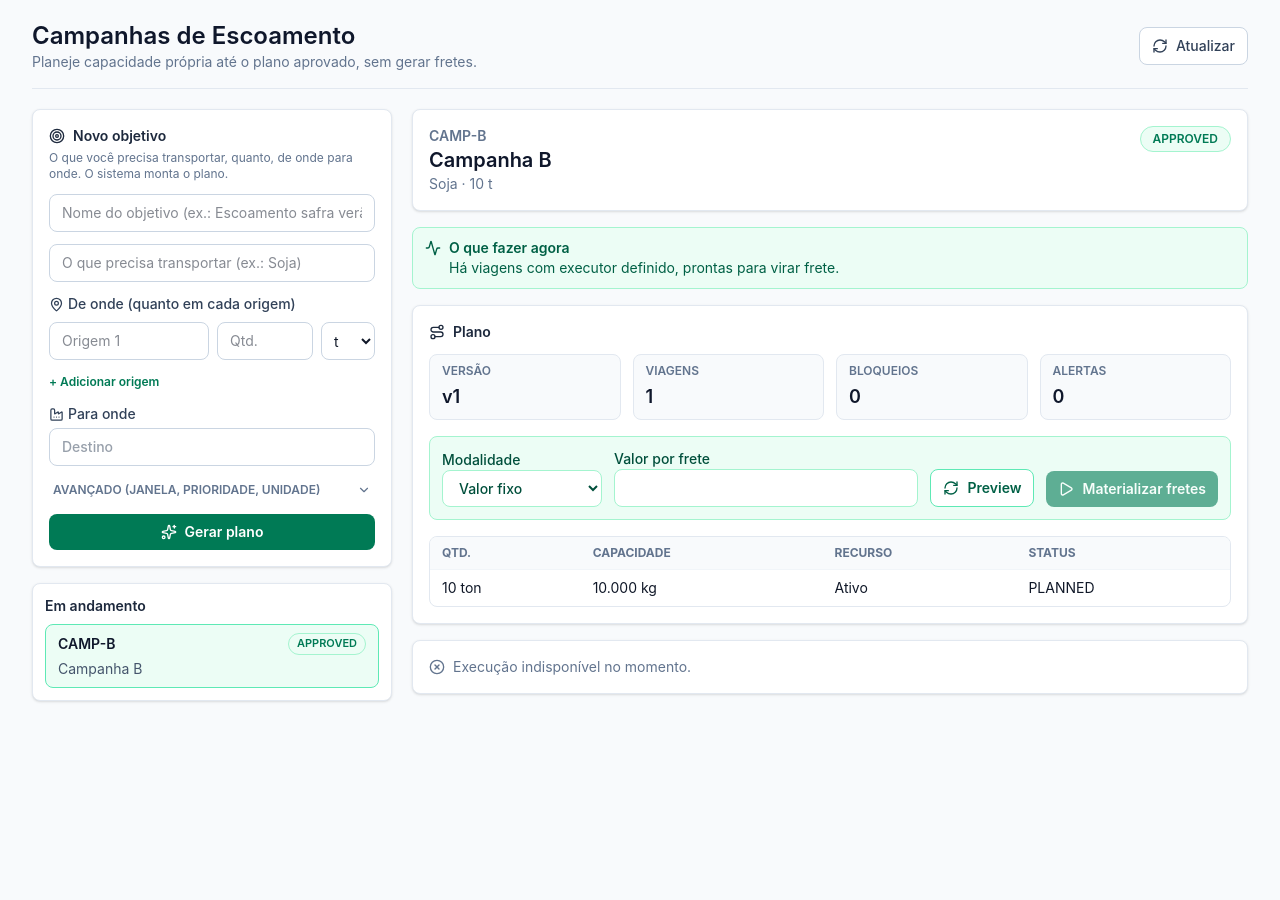
Test: OperationCampaigns materializacao › exige preview antes de materializar fretes de plano aprovado
The width and height of the screenshot is (1280, 900).
Expected: the text "CAMP-B" below "Em andamento" is shown, [58,635,115,652]
Expected: the button "Materializar fretes" is disabled, [1046,471,1218,507]
Type "500" into the number field labelled "Valor por frete" at [766, 488], box [614,469,918,507]
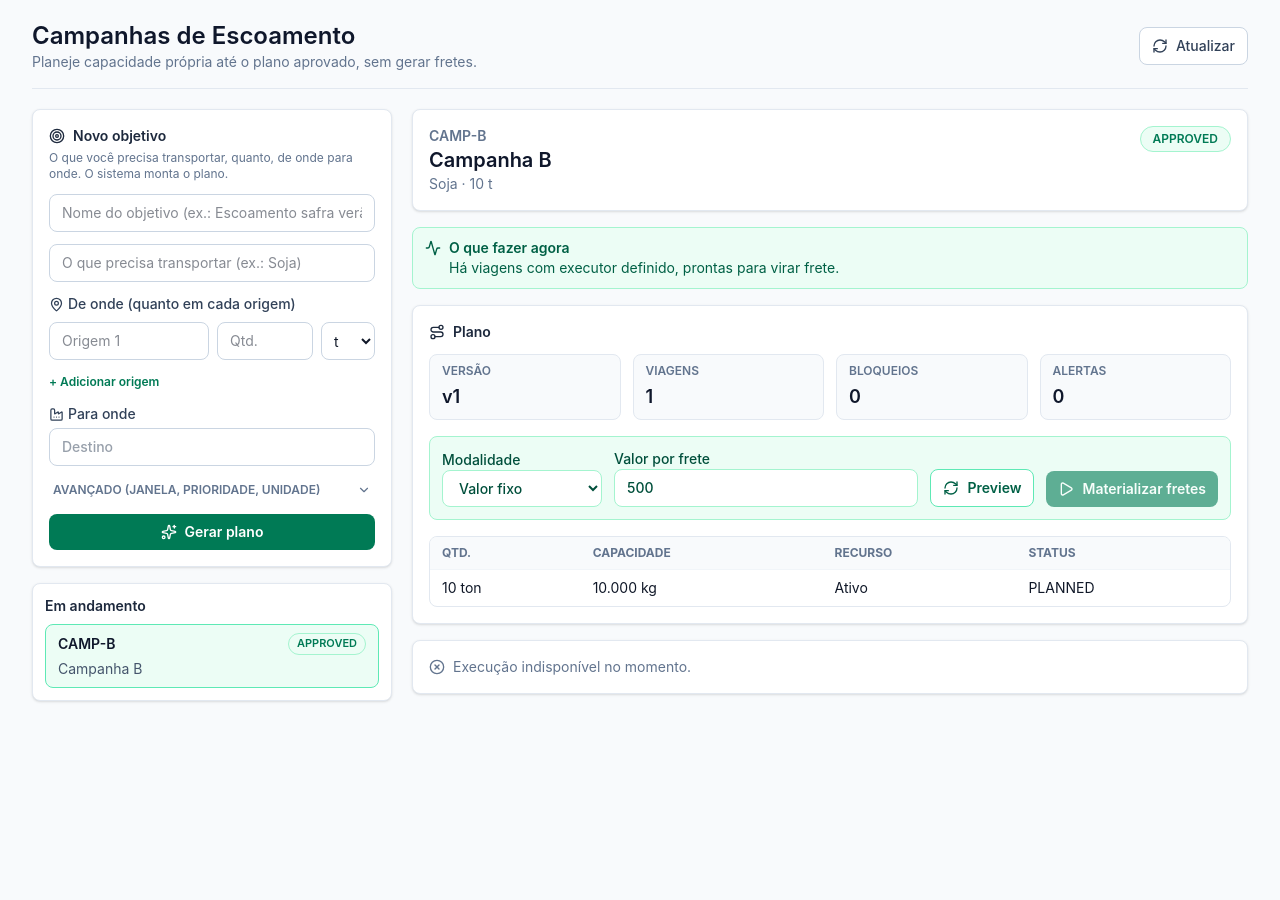
Click the button "Preview" at [982, 488], box [930,469,1034,507]
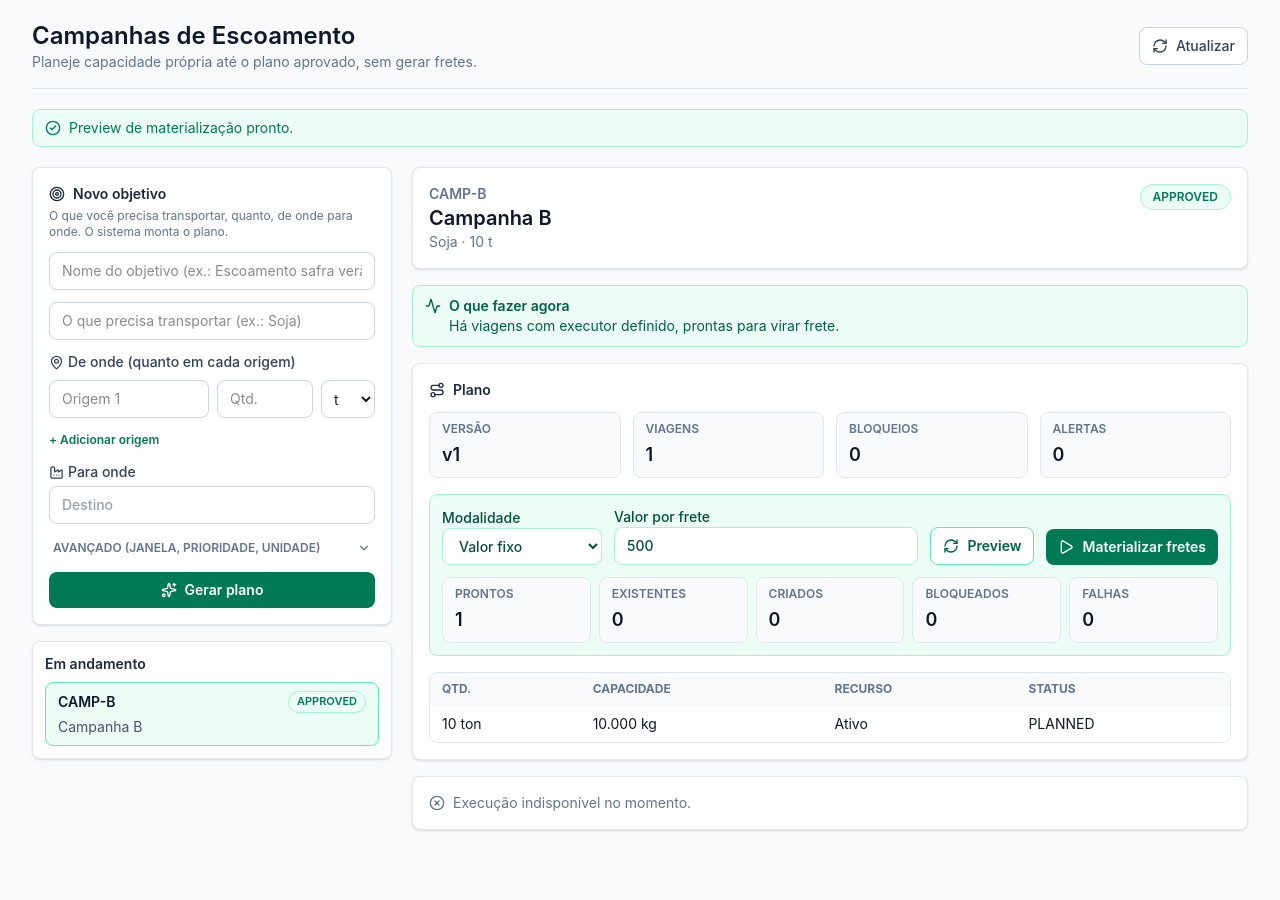
Result: the text "Prontos" is shown at [455,586,514,601]
Result: the button "Materializar fretes" is enabled
Click the button "Materializar fretes" at [1132, 547], box [1046,529,1218,565]
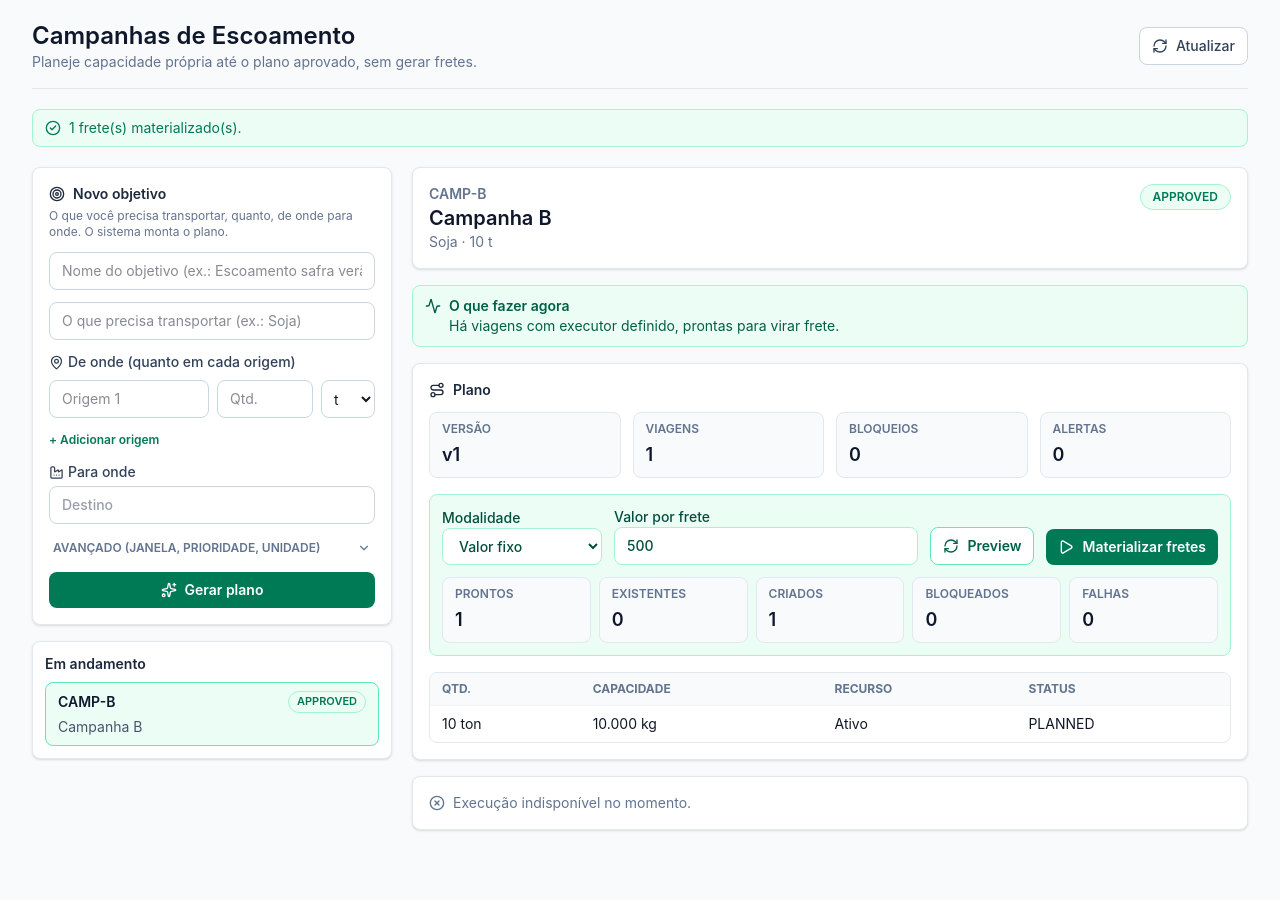
Result: the text "1 frete(s) materializado(s)." is shown at [69,118,242,138]
